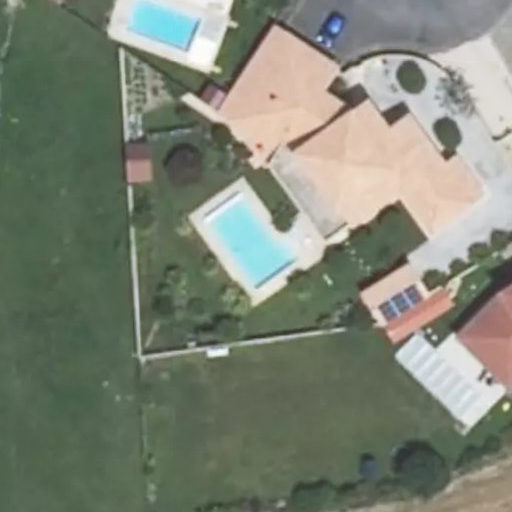pool: (210, 218, 307, 257)
